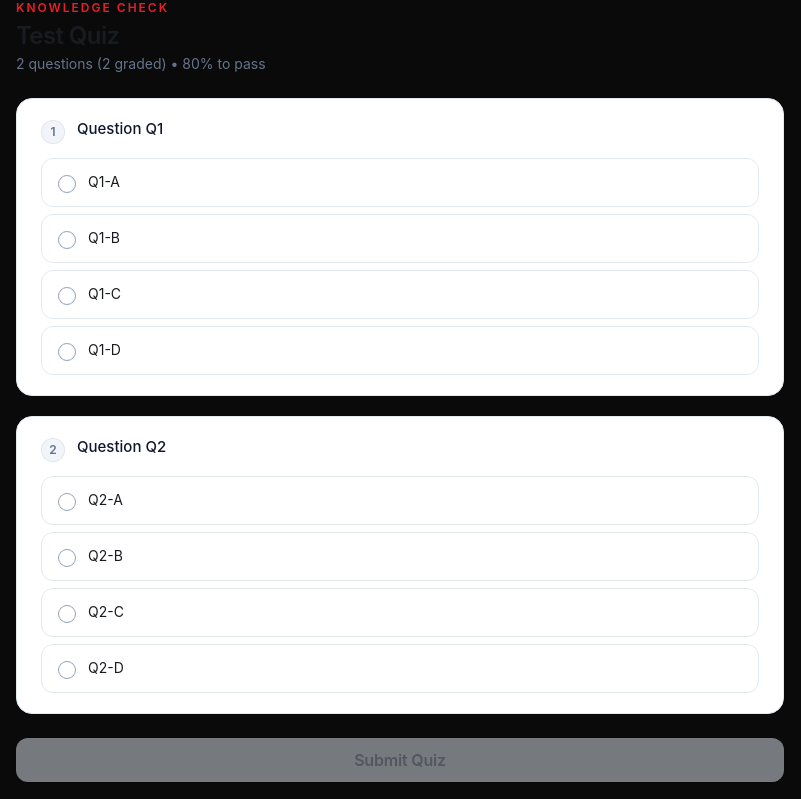
Test case: Redex Academy learner quiz — Submit/retake state machine › disables retake when allow_retakes is false
Click the radio button labelled "Q1-B" at (104, 238), box [41, 214, 759, 263]
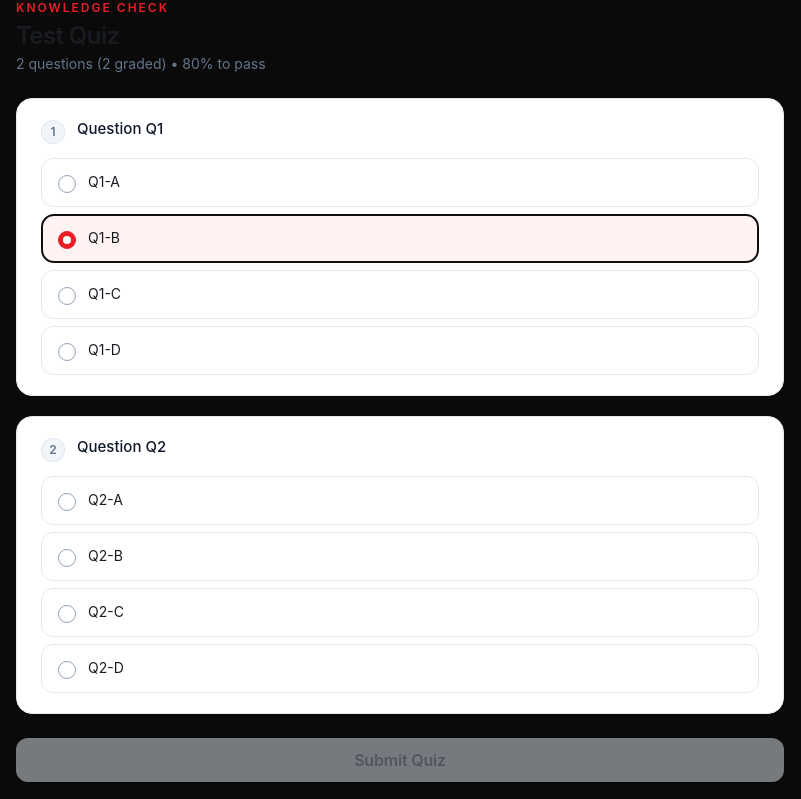
Click the radio button labelled "Q2-A" at (105, 500), box [41, 476, 759, 525]
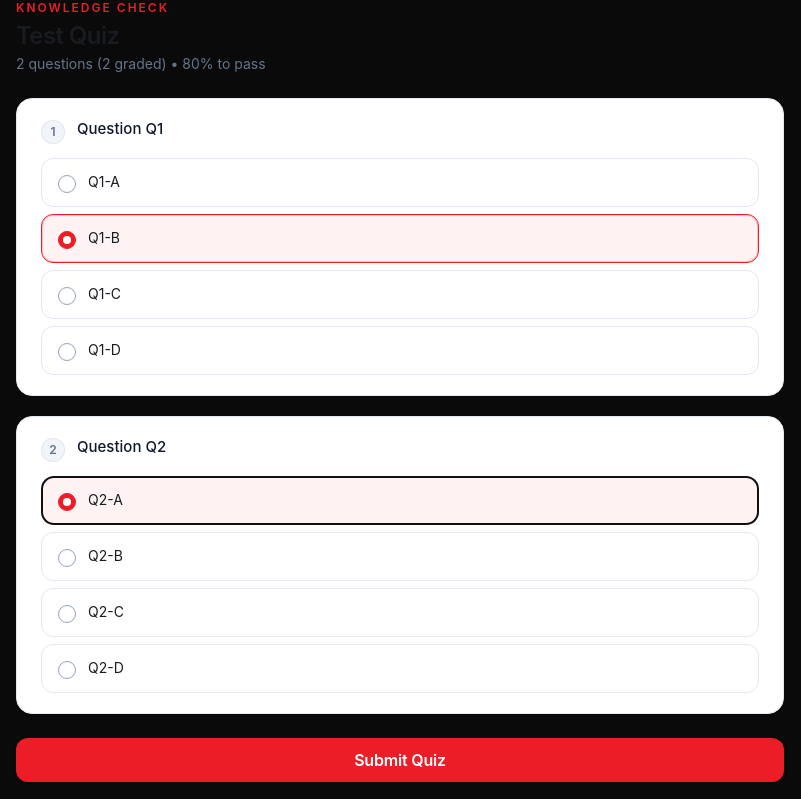
Click the button "Submit Quiz" at (400, 760), box [16, 738, 784, 782]
(page scrolled)
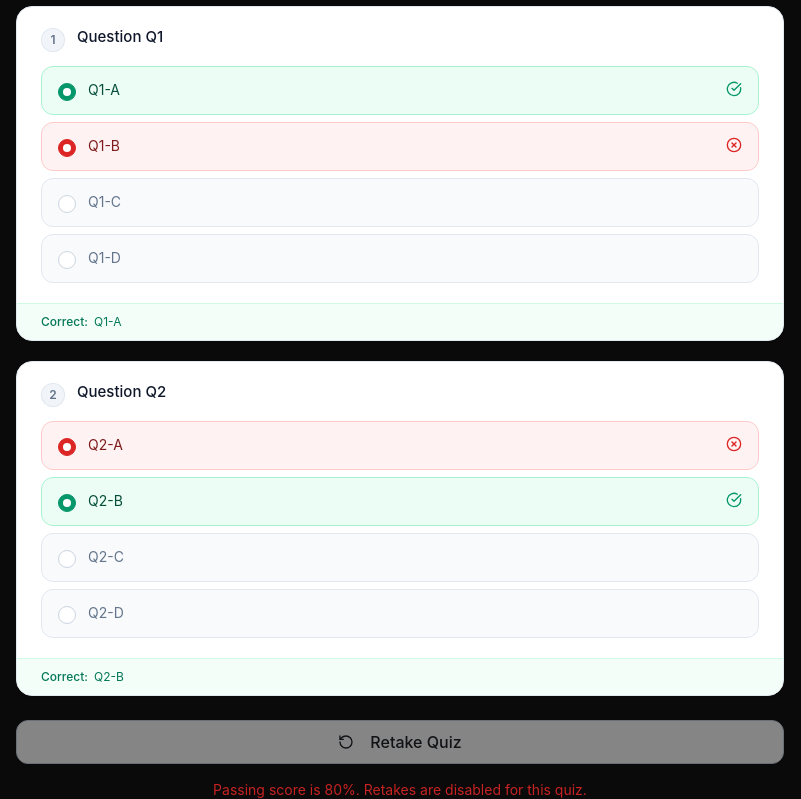
Expected: the button "Retake Quiz" is disabled, [16, 720, 784, 764]
